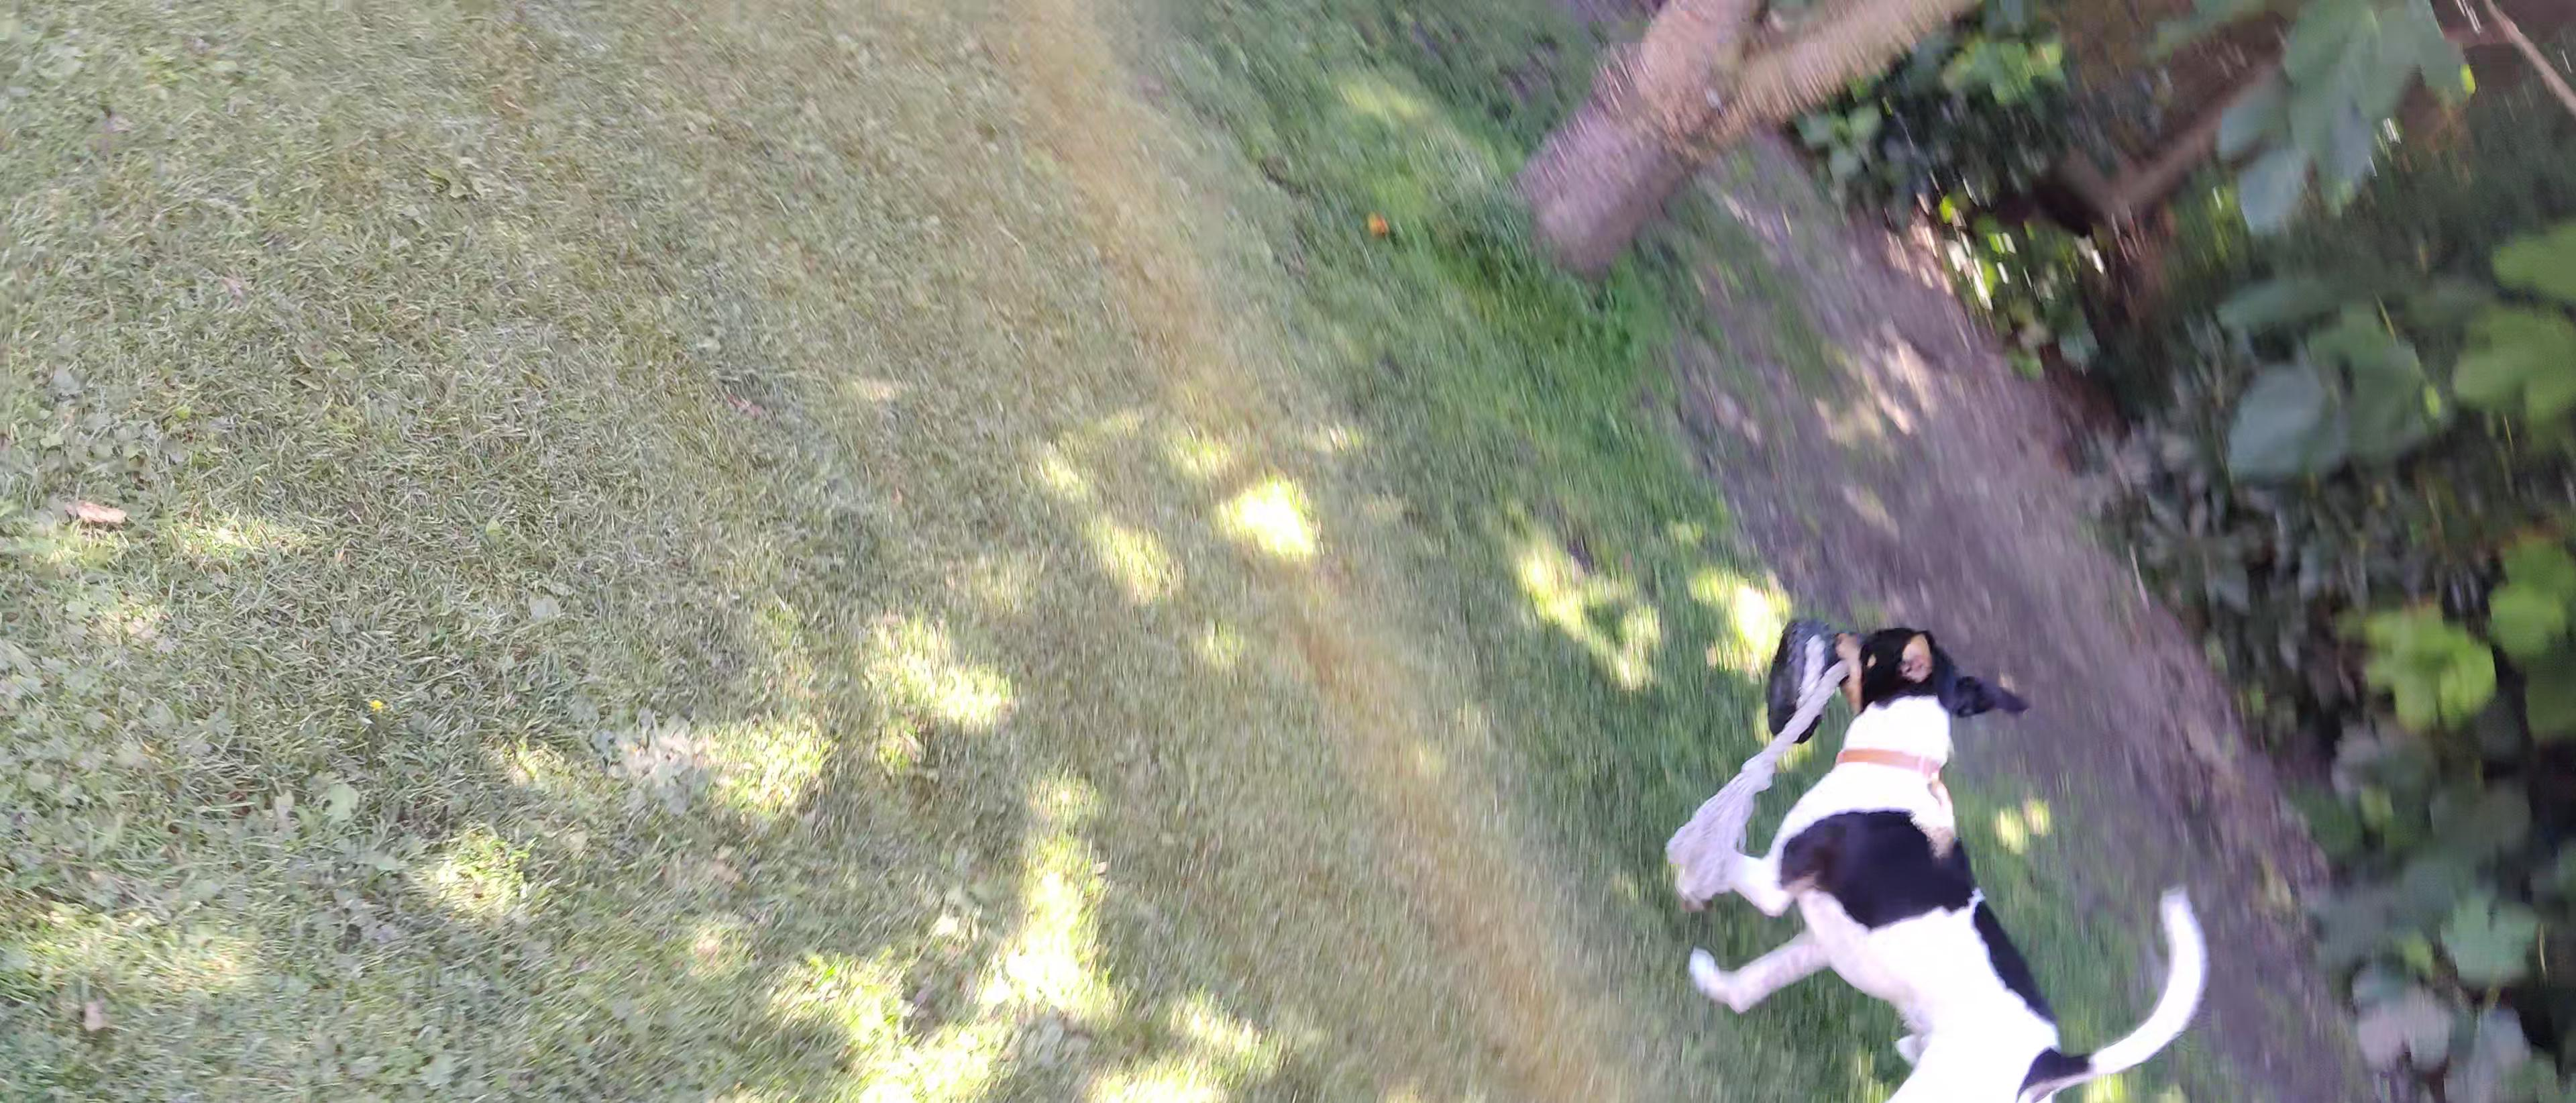Dog: (1687, 613, 2210, 1103)
